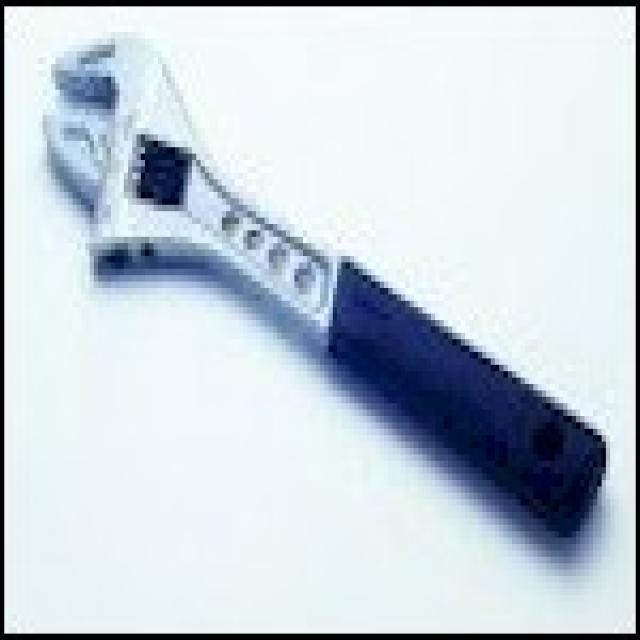wrench: (30, 26, 612, 510)
